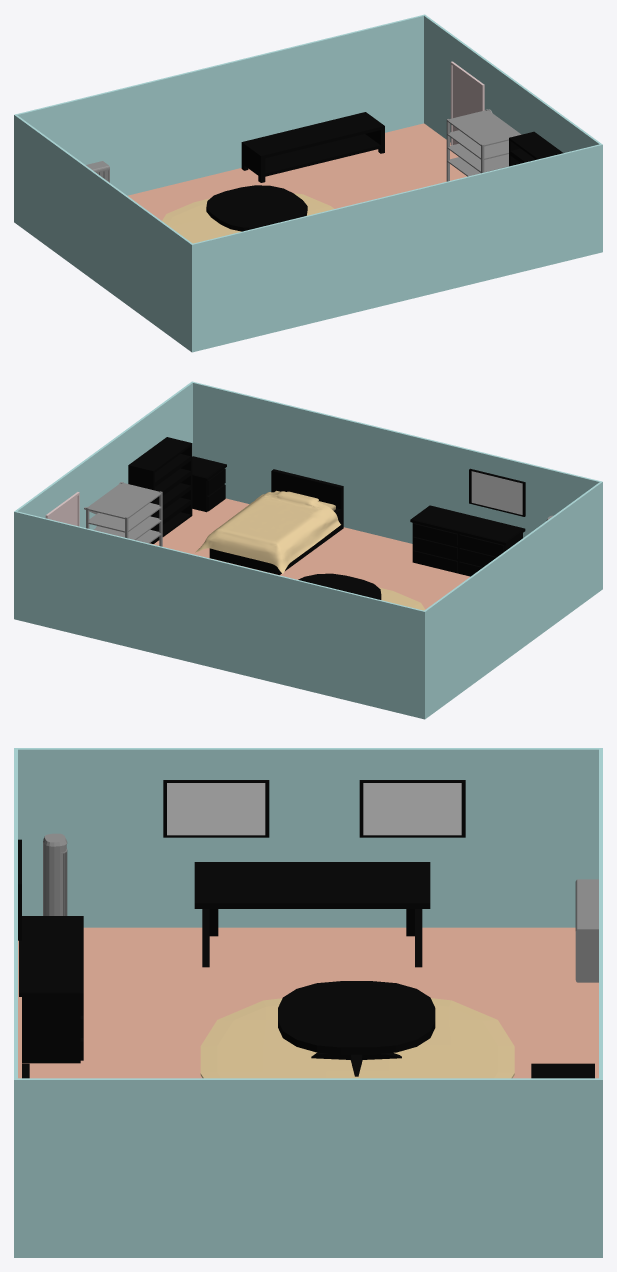
Rendered from Bedroom.fbx.
3 renders of one model, top to bottom at view 1: azimuth 30°, elevation 25°; view 2: azimuth 150°, elevation 25°; view 3: azimuth 270°, elevation 25°, orthographic. The views are drawn at different scales.
Visible parts, largest first — view 1: Walls, Floor, Cube.008, Cube.006, Cube.009, Cube.002, Door, Cube.007; view 2: Walls, Floor, Bedsheet, Cube.001, Cube.007, Cube.006, Bed frame, Windows, Cube, Cube.009, Door, Cube.002; view 3: Walls, Floor, Cube.002, Windows, Cube.004, Cube.009, Cube.001, Cube.005, Cube.003, Cube.008.
Part boxes in pixels (x1,y1,x2,y2): Walls: (14,14,602,352); Floor: (128,123,466,220); Cube.008: (241,112,384,182); Cube.006: (446,109,521,181); Cube.009: (206,185,307,231); Cube.002: (162,193,334,243); Door: (450,61,484,145); Cube.007: (509,131,563,166); Walls: (14,381,602,719); Floor: (150,498,469,609); Bedsheet: (195,491,340,573); Cube.001: (410,505,525,576); Cube.007: (128,437,192,543); Cube.006: (84,482,162,546); Bed frame: (209,469,343,574); Windows: (469,468,525,516); Cube: (192,456,226,512); Cube.009: (298,573,381,599); Door: (45,492,79,526); Cube.002: (378,587,425,610); Walls: (14,748,602,1257); Floor: (18,927,598,1078); Cube.002: (200,998,514,1078); Windows: (18,780,465,940); Cube.004: (194,862,430,967); Cube.009: (278,981,435,1076); Cube.001: (19,916,83,1063); Cube.005: (575,879,598,982); Cube.003: (43,833,67,915); Cube.008: (531,1063,594,1078).
Bounding box in the file's own units: 400 × 100 × 300.
